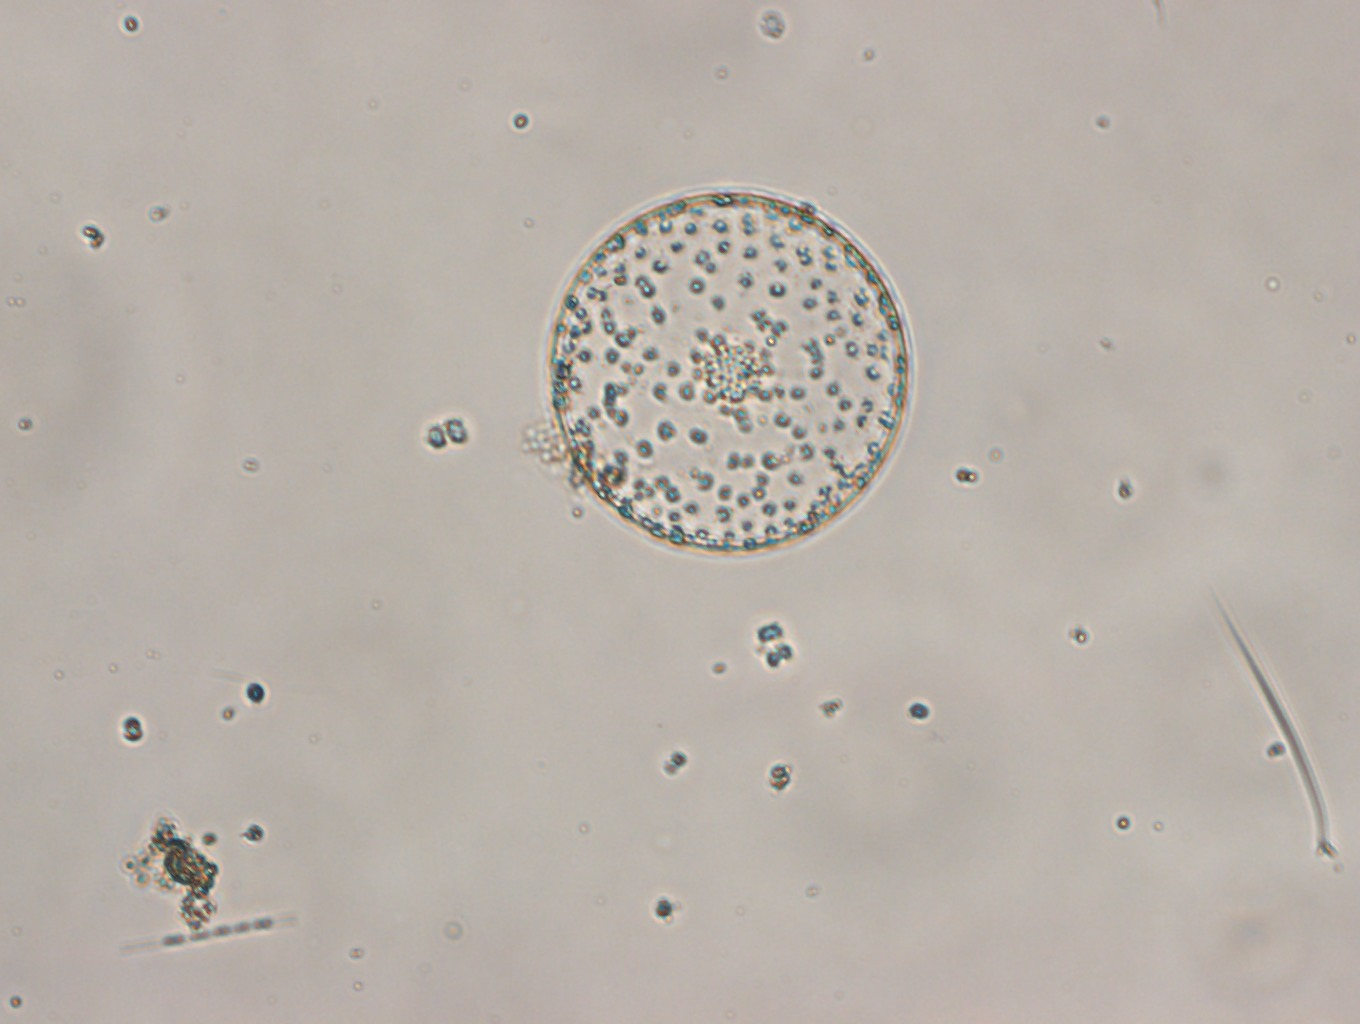coscinodiscus: (535, 189, 922, 565)
